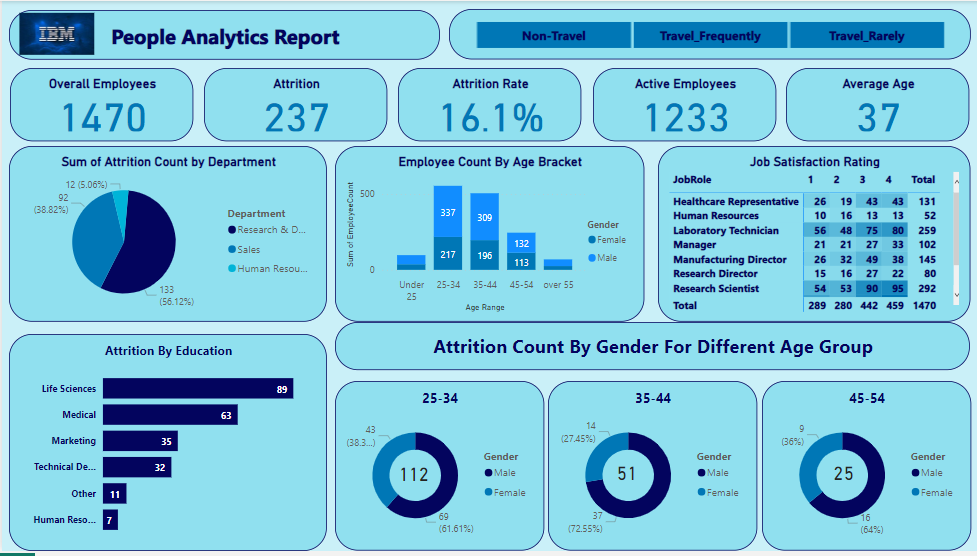

The dashboard page shown, as its layout file describes it:
{"tool":"powerbi","page":{"name":"Page 1","canvas":[1280,720],"ordinal":0},"visuals":[{"type":"donutChart","title":"25-34","fields":{"Y":["Sum(WA_Fn-UseC_-HR-Employee-Attrition.Attrition Count)"],"Category":["WA_Fn-UseC_-HR-Employee-Attrition.Gender"]},"box":[436.3,496.8,273.6,221.8],"z":0},{"type":"card","title":"Overall Employees","fields":{"Values":["Sum(WA_Fn-UseC_-HR-Employee-Attrition.EmployeeCount)"]},"box":[10.1,87.8,240.5,96.5],"z":1000},{"type":"card","title":"Attrition","fields":{"Values":["Sum(WA_Fn-UseC_-HR-Employee-Attrition.Attrition Count)"]},"box":[265,87.8,240.5,96.5],"z":2000},{"type":"card","title":"Attrition Rate","fields":{"Values":["WA_Fn-UseC_-HR-Employee-Attrition.Attrition Rate"]},"box":[518.4,87.8,240.5,96.5],"z":3000},{"type":"card","title":"Active Employees","fields":{"Values":["WA_Fn-UseC_-HR-Employee-Attrition.Active Employees"]},"box":[773.3,87.8,240.5,96.5],"z":4000},{"type":"card","title":"Average Age","fields":{"Values":["Avg(WA_Fn-UseC_-HR-Employee-Attrition.Age)"]},"box":[1026.7,87.8,240.5,96.5],"z":5000},{"type":"pieChart","fields":{"Y":["Sum(WA_Fn-UseC_-HR-Employee-Attrition.Attrition Count)"],"Category":["WA_Fn-UseC_-HR-Employee-Attrition.Department"]},"box":[8.6,190.1,416.2,230.4],"z":6000},{"type":"columnChart","title":"Employee Count By Age Bracket","fields":{"Category":["WA_Fn-UseC_-HR-Employee-Attrition.Age Range"],"Y":["Sum(WA_Fn-UseC_-HR-Employee-Attrition.EmployeeCount)"],"Series":["WA_Fn-UseC_-HR-Employee-Attrition.Gender"]},"box":[436.3,190.1,404.6,230.4],"z":7000},{"type":"pivotTable","title":"Job Satisfaction Rating","fields":{"Rows":["WA_Fn-UseC_-HR-Employee-Attrition.JobRole"],"Columns":["WA_Fn-UseC_-HR-Employee-Attrition.JobSatisfaction"],"Values":["CountNonNull(WA_Fn-UseC_-HR-Employee-Attrition.JobSatisfaction)"]},"box":[858.2,190.1,409,230.4],"z":8000},{"type":"barChart","title":"Attrition By Education","fields":{"Y":["Sum(WA_Fn-UseC_-HR-Employee-Attrition.Attrition Count)"],"Category":["WA_Fn-UseC_-HR-Employee-Attrition.EducationField"]},"box":[8.6,436.3,416.2,283.7],"z":9000},{"type":"textbox","box":[436.3,420.5,830.9,63.4],"z":10000},{"type":"donutChart","title":"35-44","fields":{"Y":["Sum(WA_Fn-UseC_-HR-Employee-Attrition.Attrition Count)"],"Category":["WA_Fn-UseC_-HR-Employee-Attrition.Gender"]},"box":[714.2,496.8,273.6,221.8],"z":11000},{"type":"donutChart","title":"45-54","fields":{"Y":["Sum(WA_Fn-UseC_-HR-Employee-Attrition.Attrition Count)"],"Category":["WA_Fn-UseC_-HR-Employee-Attrition.Gender"]},"box":[995,496.8,273.6,221.8],"z":12000},{"type":"card","fields":{"Values":["Sum(WA_Fn-UseC_-HR-Employee-Attrition.Attrition Count)"]},"box":[493.9,583.2,90.7,70.6],"z":13000},{"type":"card","fields":{"Values":["Sum(WA_Fn-UseC_-HR-Employee-Attrition.Attrition Count)"]},"box":[772.7,582.9,90.7,70.6],"z":14000},{"type":"card","fields":{"Values":["Sum(WA_Fn-UseC_-HR-Employee-Attrition.Attrition Count)"]},"box":[1056.6,582.9,90.7,70.6],"z":15000},{"type":"textbox","box":[8.6,11.5,564.5,64.8],"z":16000},{"type":"image","box":[11.5,10.1,119.5,64.8],"z":17000},{"type":"slicer","fields":{"Values":["WA_Fn-UseC_-HR-Employee-Attrition.BusinessTravel"]},"box":[584.6,10.1,682.6,66.2],"z":18000}]}

Visuals, with their boxes in screenshot pixels (x1, y1, x2, y2), scaled from the page's 1280x720 canvas onto the 977x556 screenshot:
"25-34" donutChart: crop(333, 384, 542, 555)
"Overall Employees" card: crop(8, 68, 191, 142)
"Attrition" card: crop(202, 68, 386, 142)
"Attrition Rate" card: crop(396, 68, 579, 142)
"Active Employees" card: crop(590, 68, 774, 142)
"Average Age" card: crop(784, 68, 967, 142)
pieChart - Sum(WA_Fn-UseC_-HR-Employee-Attrition.Attrition Count) x WA_Fn-UseC_-HR-Employee-Attrition.Department: crop(7, 147, 324, 325)
"Employee Count By Age Bracket" columnChart: crop(333, 147, 642, 325)
"Job Satisfaction Rating" pivotTable: crop(655, 147, 967, 325)
"Attrition By Education" barChart: crop(7, 337, 324, 555)
textbox: crop(333, 325, 967, 374)
"35-44" donutChart: crop(545, 384, 754, 555)
"45-54" donutChart: crop(759, 384, 968, 555)
card - Sum(WA_Fn-UseC_-HR-Employee-Attrition.Attrition Count): crop(377, 450, 446, 505)
card - Sum(WA_Fn-UseC_-HR-Employee-Attrition.Attrition Count): crop(590, 450, 659, 505)
card - Sum(WA_Fn-UseC_-HR-Employee-Attrition.Attrition Count): crop(806, 450, 876, 505)
textbox: crop(7, 9, 437, 59)
image: crop(9, 8, 100, 58)
slicer - WA_Fn-UseC_-HR-Employee-Attrition.BusinessTravel: crop(446, 8, 967, 59)
